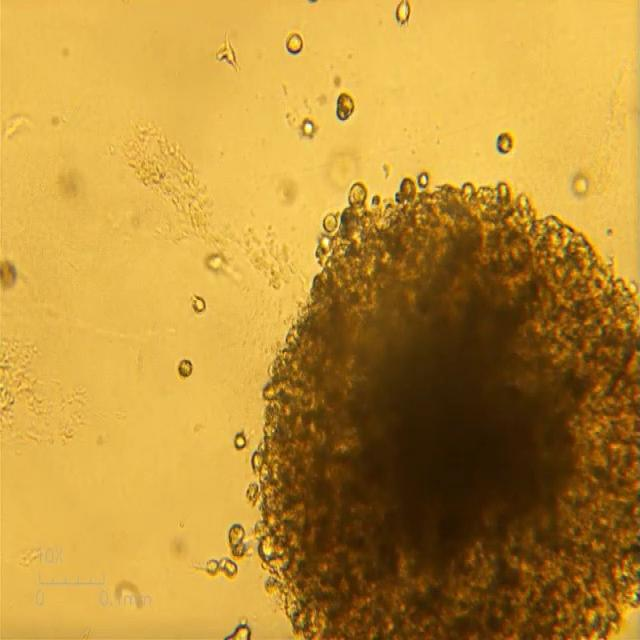cell: (336, 93, 356, 118), (220, 625, 252, 640), (199, 256, 226, 271), (2, 260, 15, 291), (495, 133, 513, 154), (286, 33, 304, 52), (396, 1, 410, 24), (572, 176, 586, 196), (178, 361, 193, 379), (193, 296, 206, 315), (204, 559, 219, 575), (219, 562, 235, 577), (302, 119, 316, 136), (234, 433, 246, 452)
tumor_mass: (227, 173, 640, 640)
